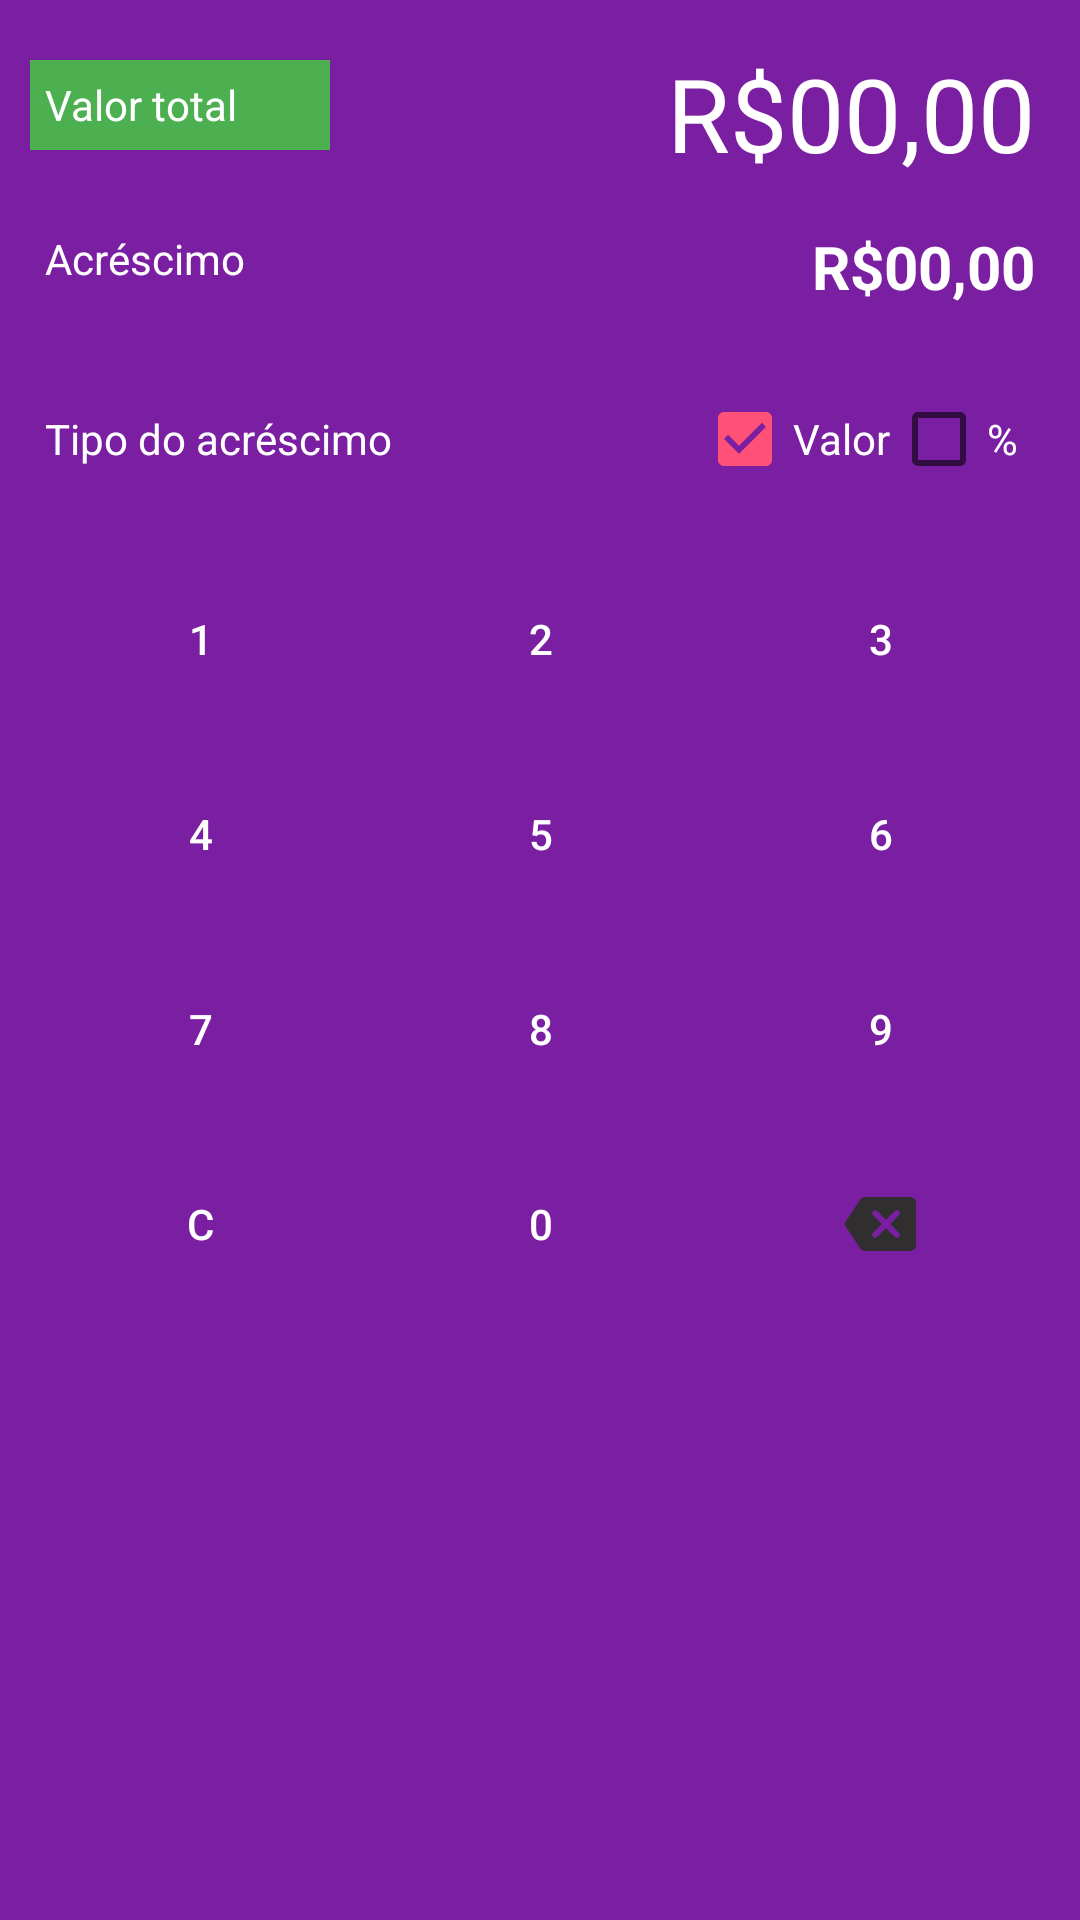

Icon click points for this 1080 x 1920 phone screenshot, format point (x, y):
backspace: point (880, 1224)
